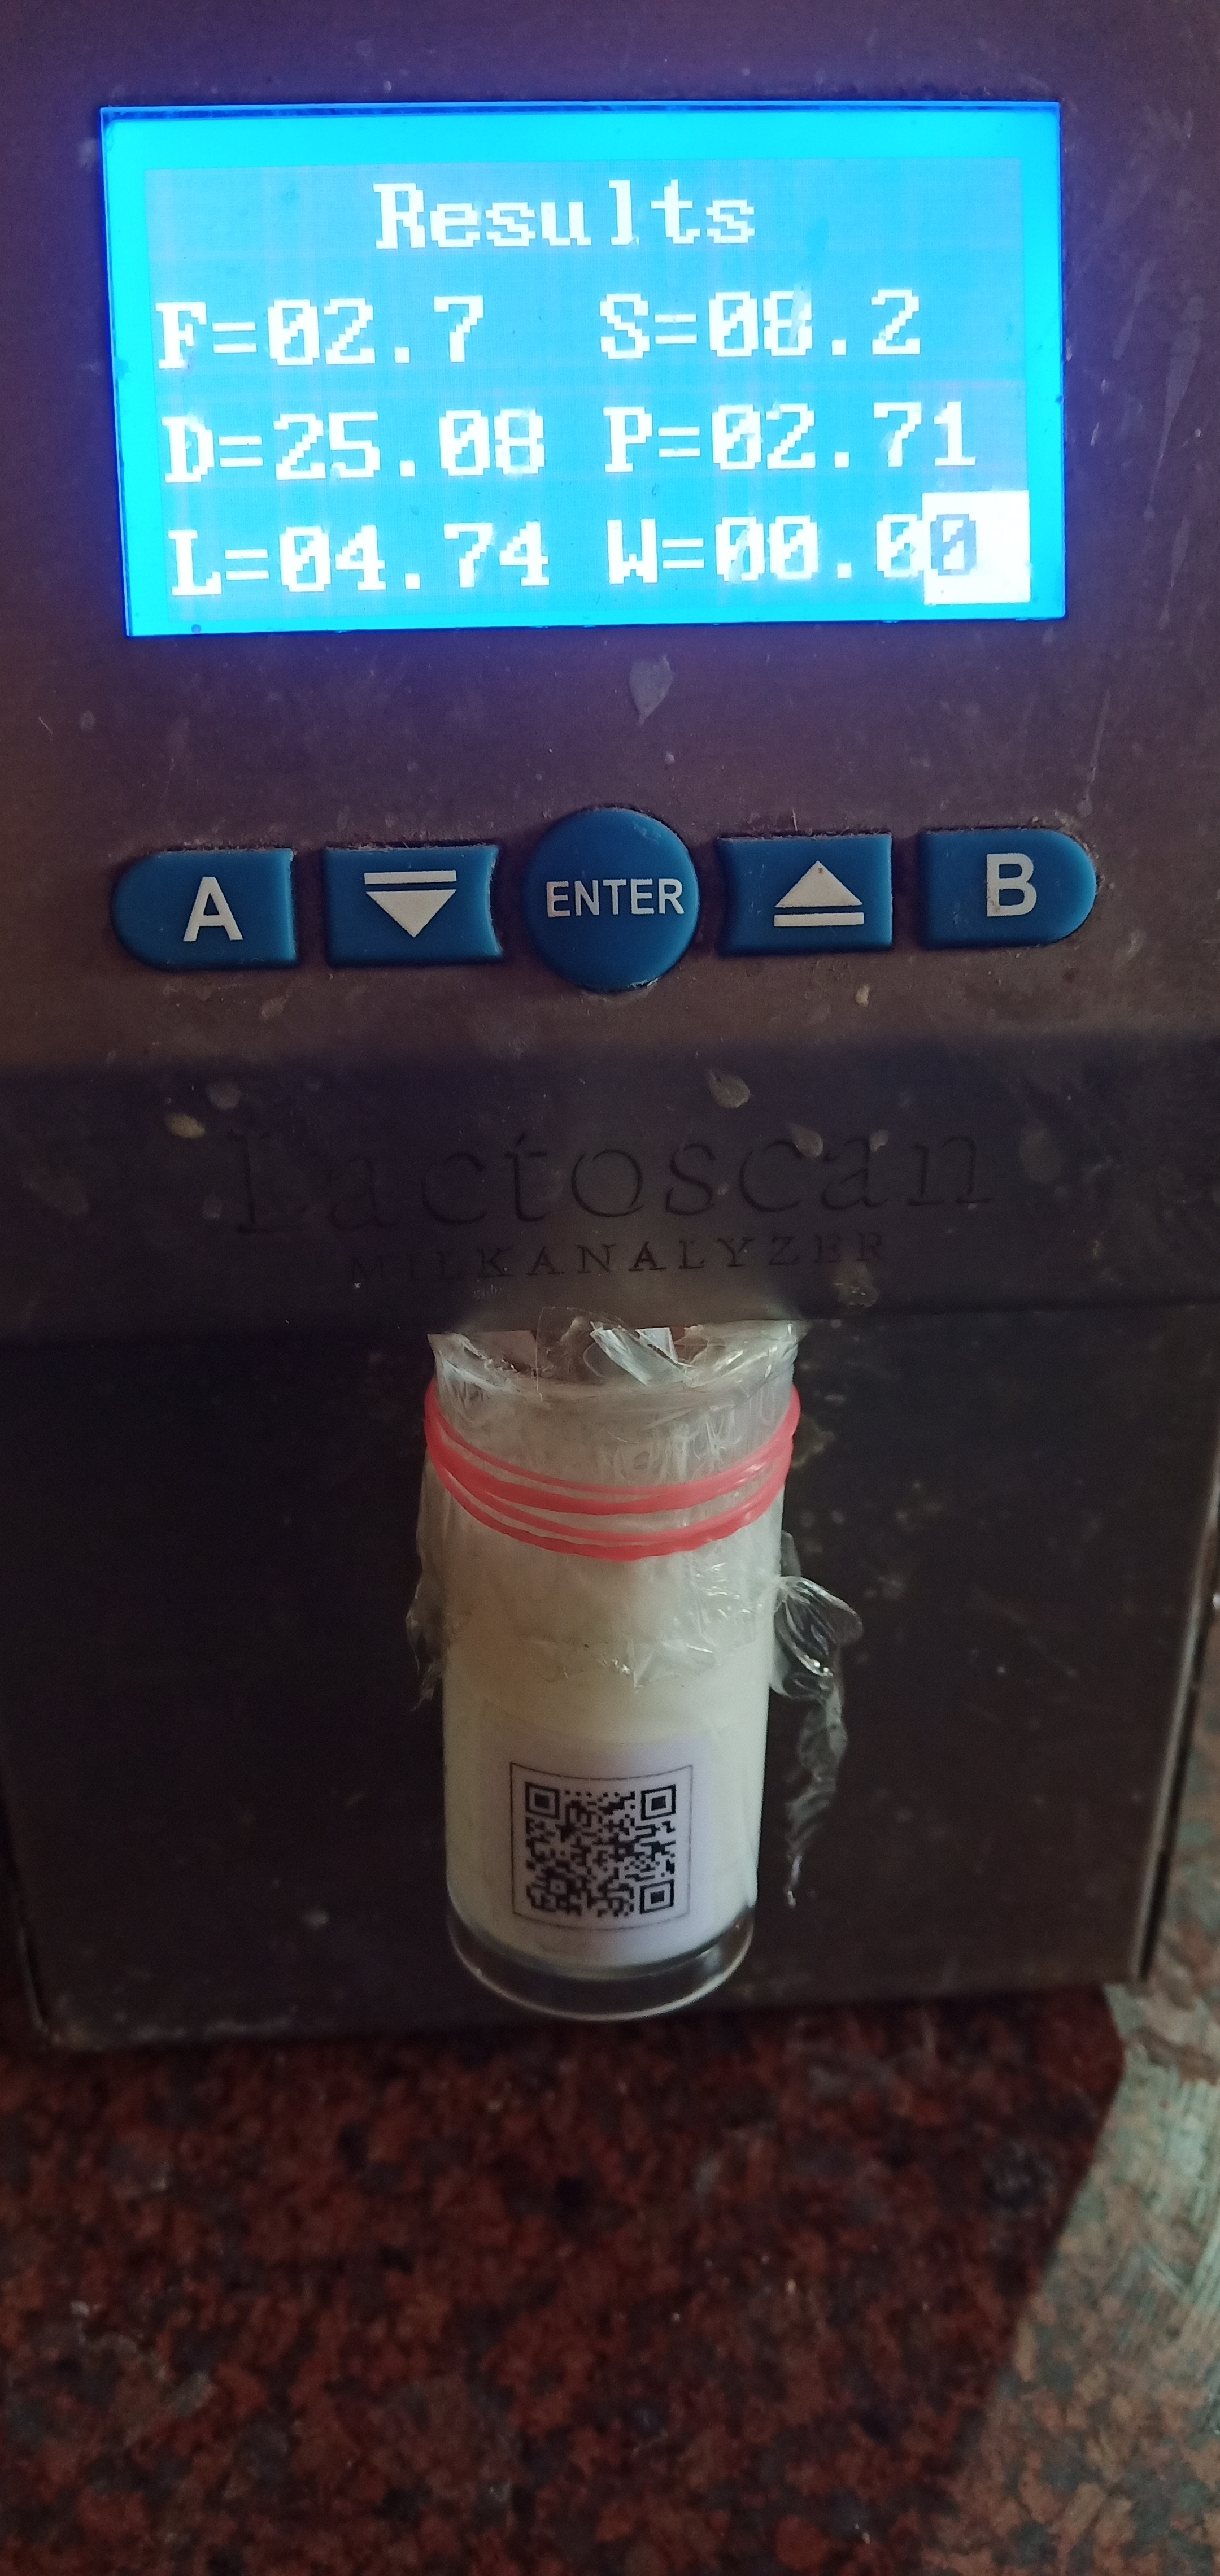lcd: (84, 57, 1092, 675)
qr: (502, 1756, 708, 1957)
